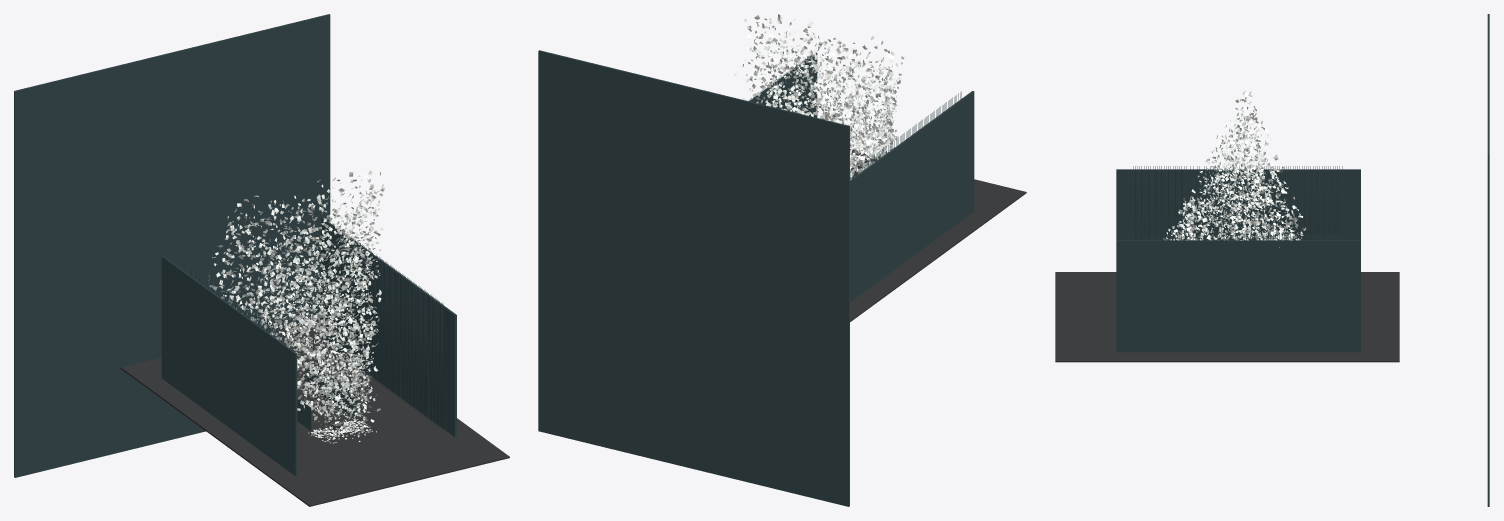
The model's file is paper-scene.glb.
The picture shows the model from 3 angles, left to right: view 1: azimuth 30°, elevation 25°; view 2: azimuth 150°, elevation 25°; view 3: azimuth 270°, elevation 25°; orthographic projection. The views are drawn at different scales.
Parts seen in each view (by area): view 1: Far end wall, Polished concrete floor, Side hall wall, Side hall wall.001, STATIC | wall ribs, Layered paper canopy 05, Layered paper canopy 03, Layered paper canopy 06, Layered paper canopy 04, Layered paper canopy 07; view 2: Far end wall, Side hall wall, Polished concrete floor, Layered paper canopy 05, Layered paper canopy 03, Layered paper canopy 04, Layered paper canopy 07, Layered paper canopy 06, STATIC | wall ribs, Side hall wall.001; view 3: Side hall wall.001, Side hall wall, Polished concrete floor, STATIC | wall ribs, Layered paper canopy 05, Layered paper canopy 06, Layered paper canopy 03, Layered paper canopy 07, Layered paper canopy 04, Far end wall.
Boxes of the visible parts, x1,y1,x2,y2 form: Far end wall: [14, 14, 330, 477]; Polished concrete floor: [120, 318, 509, 506]; Side hall wall: [161, 256, 297, 476]; Side hall wall.001: [321, 217, 456, 437]; STATIC | wall ribs: [176, 220, 443, 430]; Layered paper canopy 05: [218, 170, 384, 420]; Layered paper canopy 03: [208, 175, 378, 416]; Layered paper canopy 06: [214, 188, 381, 412]; Layered paper canopy 04: [209, 172, 385, 414]; Layered paper canopy 07: [216, 172, 383, 410]; Far end wall: [538, 50, 849, 506]; Side hall wall: [850, 91, 974, 301]; Polished concrete floor: [850, 149, 1026, 321]; Layered paper canopy 05: [734, 15, 902, 176]; Layered paper canopy 03: [752, 17, 901, 179]; Layered paper canopy 04: [744, 14, 904, 174]; Layered paper canopy 07: [743, 18, 898, 177]; Layered paper canopy 06: [745, 24, 897, 179]; STATIC | wall ribs: [748, 55, 961, 179]; Side hall wall.001: [749, 52, 817, 117]; Side hall wall.001: [1116, 240, 1360, 352]; Side hall wall: [1116, 169, 1360, 240]; Polished concrete floor: [1055, 272, 1399, 362]; STATIC | wall ribs: [1133, 166, 1342, 239]; Layered paper canopy 05: [1168, 98, 1302, 247]; Layered paper canopy 06: [1163, 95, 1303, 240]; Layered paper canopy 03: [1170, 99, 1298, 240]; Layered paper canopy 07: [1166, 89, 1306, 240]; Layered paper canopy 04: [1165, 92, 1300, 240]; Far end wall: [1487, 14, 1489, 506].
Size of the model in its own units: 59.8 by 70 by 78.17.
36 materials, 17 textured.
